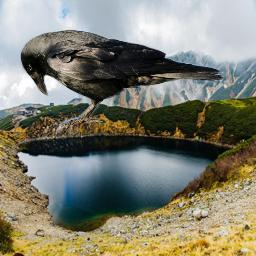Crow: (20, 29, 226, 133)
